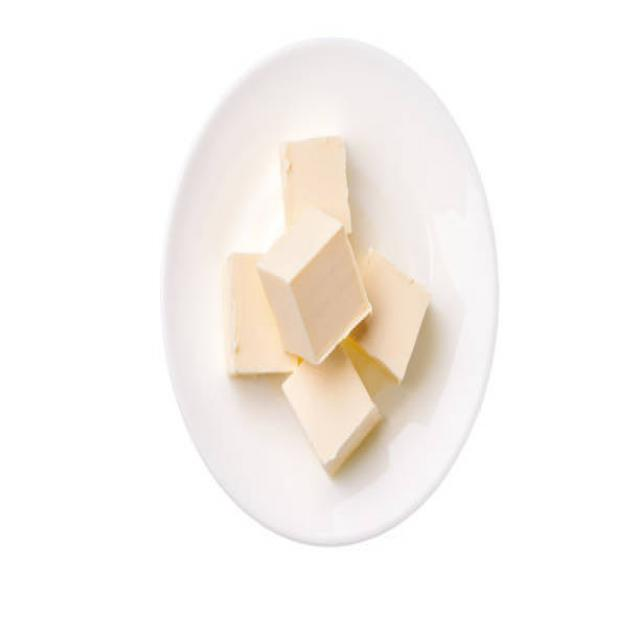tofu: (258, 200, 374, 364), (281, 347, 386, 479)
